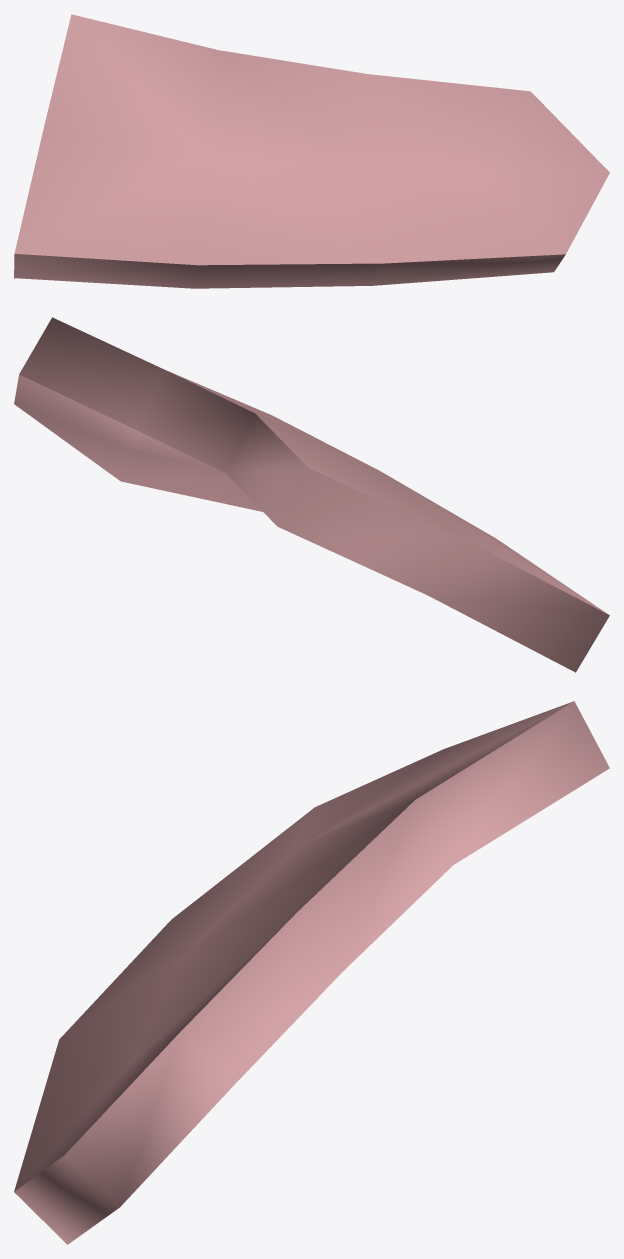
3 renders of one model, top to bottom at view 1: azimuth 30°, elevation 25°; view 2: azimuth 150°, elevation 25°; view 3: azimuth 270°, elevation 25°, orthographic. The views are drawn at different scales.
Visible parts, largest first — view 1: ZA_6759cc854f2133aa; view 2: ZA_6759cc854f2133aa; view 3: ZA_6759cc854f2133aa.
Part boxes in pixels (x1=…): ZA_6759cc854f2133aa: x1=14, y1=14, x2=609, y2=288; ZA_6759cc854f2133aa: x1=14, y1=317, x2=609, y2=672; ZA_6759cc854f2133aa: x1=14, y1=701, x2=609, y2=1244.
Bounding box in the file's own units: 0.0353 × 0.0136 × 0.0234.
